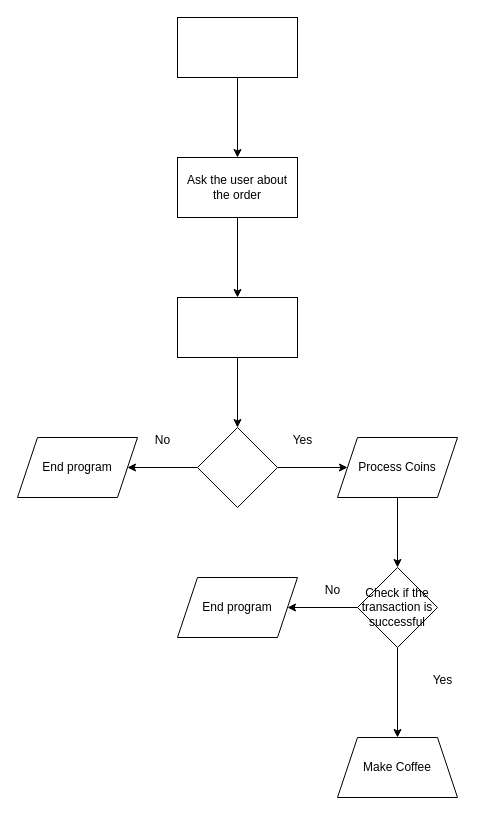
The diagram is 480 pixels wide and 815 high, and some of its shapes have lost their labels. Each missing label, with the centre of its shape:
"Check resources" belongs at point 237,467.
"Print a report of the order" belongs at point 237,327.
"Start" belongs at point 237,47.
